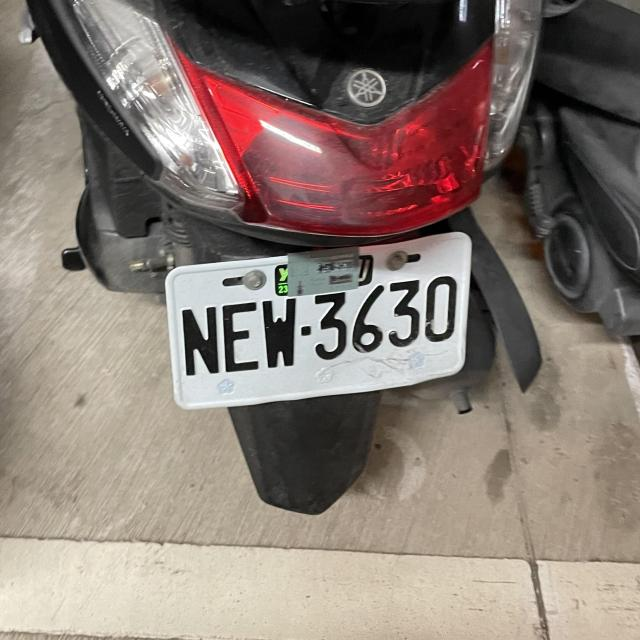W: (158, 230, 484, 412)
